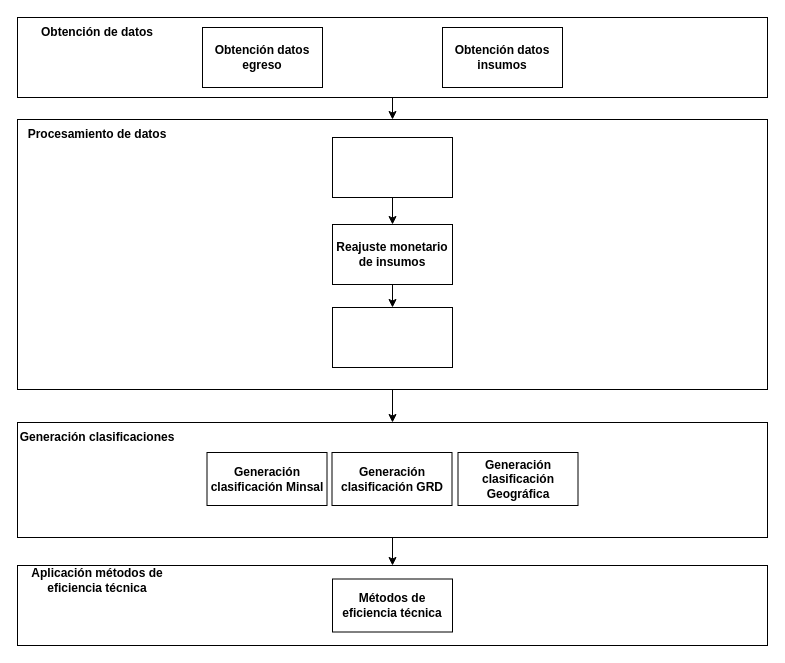
Some shapes in this 785 by 663 pixel diagram are drawn without their labels. The shapes that lost their labels are listed below. From the top down, each one's centre as x and y in pixels, then its label:
At (x=392, y=167): "Consolidación de datos".
At (x=392, y=337): "Normalización de datos".
